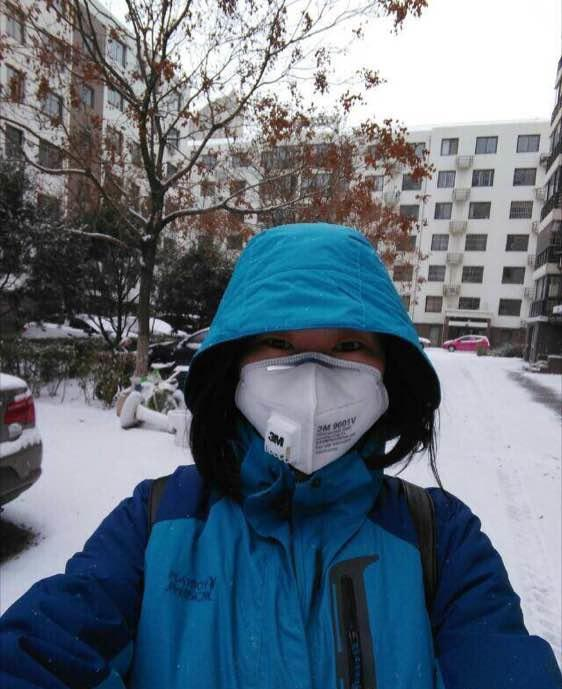OK: (239, 315, 401, 477)
